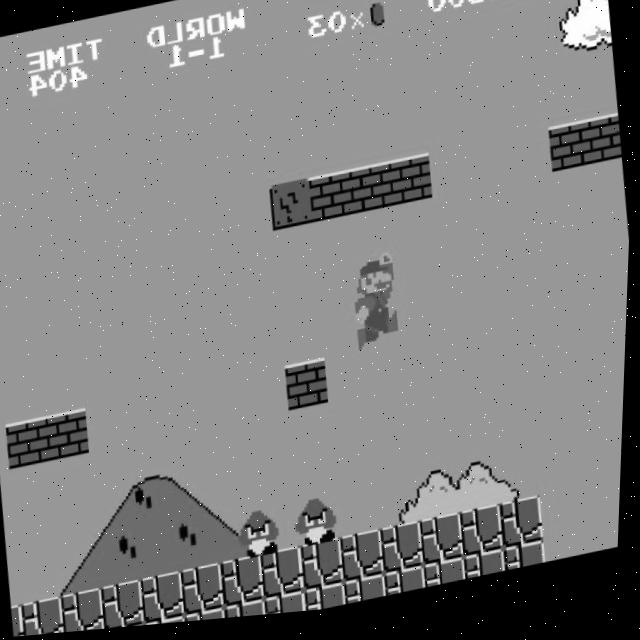0- big_mario: (350, 254, 407, 357)
1- brick_block: (285, 362, 333, 417), (348, 167, 396, 221), (46, 409, 94, 463), (308, 175, 356, 228), (7, 416, 54, 470), (548, 130, 595, 183), (388, 160, 435, 213), (588, 124, 624, 174)
13- mystery_block: (269, 183, 316, 236)
17- undestructible_block: (382, 527, 430, 582), (302, 542, 350, 597), (462, 512, 510, 566), (342, 535, 390, 589), (183, 566, 231, 620), (502, 504, 549, 559), (422, 520, 469, 574), (263, 550, 310, 604), (223, 558, 270, 612), (143, 573, 190, 627), (103, 580, 151, 631), (63, 588, 111, 634), (23, 596, 70, 637), (467, 557, 511, 588), (427, 565, 471, 596), (387, 572, 431, 603), (347, 580, 391, 611), (507, 549, 550, 580), (307, 587, 351, 617), (267, 595, 311, 620), (228, 603, 272, 623), (188, 611, 232, 626), (13, 604, 31, 638), (148, 618, 192, 628)
8- goomba: (238, 508, 289, 566), (296, 497, 346, 555)
